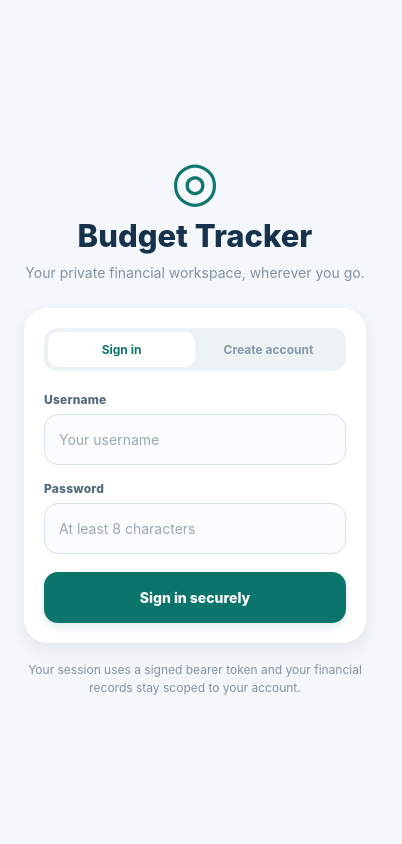
Test case: mobile app › authenticates, hydrates cached data, and navigates to expenses
This screenshot has width=402, height=844.
expect the text "Budget Tracker" is shown: met, box [78, 217, 312, 254]
Type "alex" into the field with placeholder "Your username" at {"x": 195, "y": 440}, box [44, 414, 346, 465]
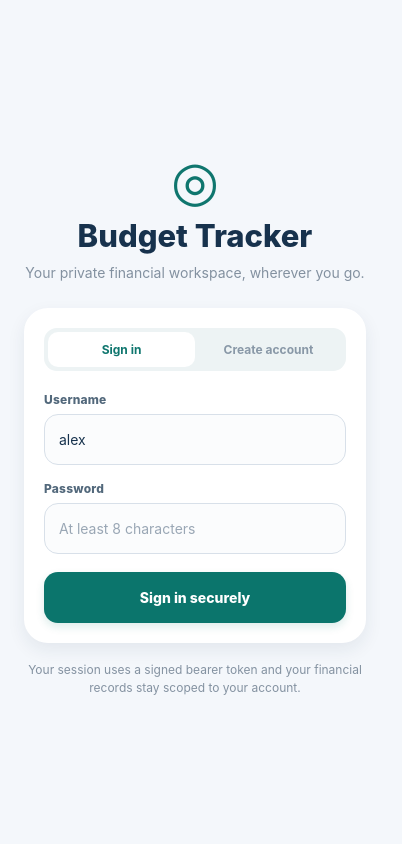
Type "password123" into the field with placeholder "At least 8 characters" at {"x": 195, "y": 528}, box [44, 503, 346, 554]
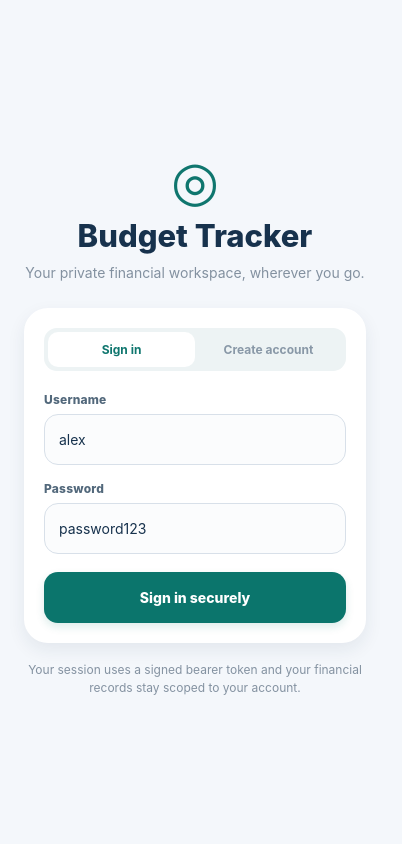
Click the text "Sign in securely" at {"x": 195, "y": 598}, box [140, 589, 250, 606]
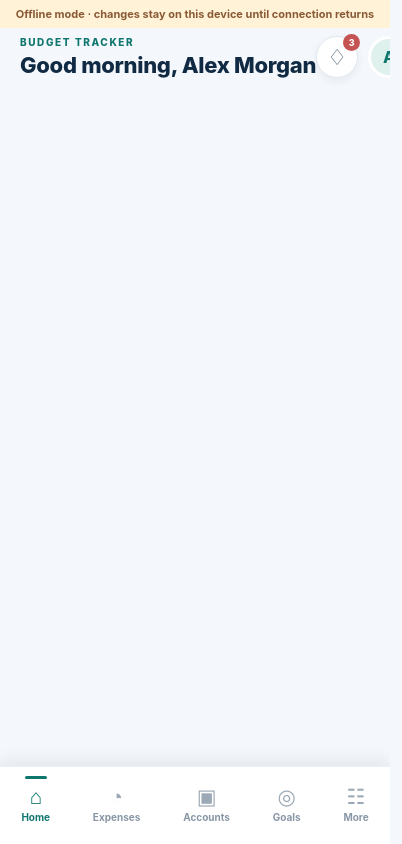
expect the text "Good morning, Alex Morgan" is shown: met, box [20, 52, 316, 78]
Click the button with aria-label "Open Expenses" at {"x": 117, "y": 806}, box [93, 776, 140, 836]
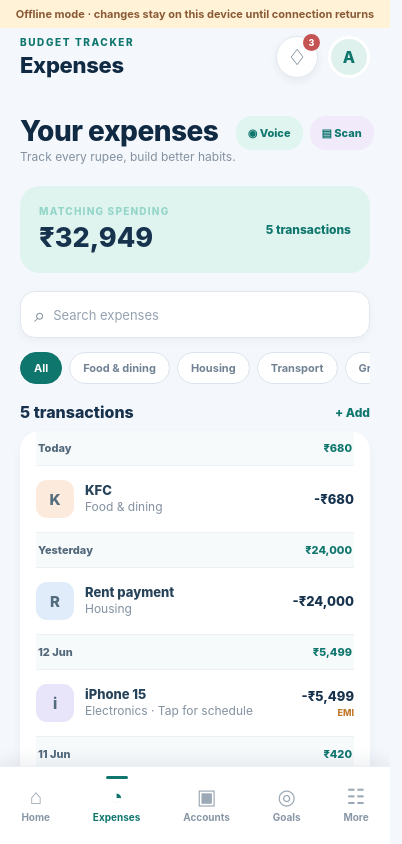
expect the text "Your expenses" is shown: met, box [20, 114, 236, 148]
expect the field with placeholder "Search expenses" is shown: met, box [45, 292, 356, 337]
